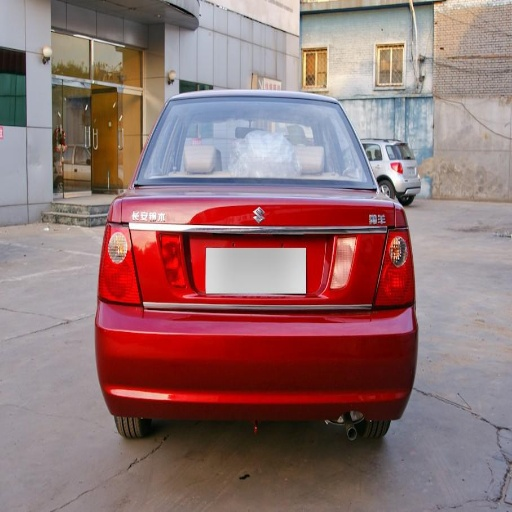back_bumper: (100, 272, 417, 423)
tailgate: (121, 178, 391, 319)
trunk: (121, 186, 373, 352)
